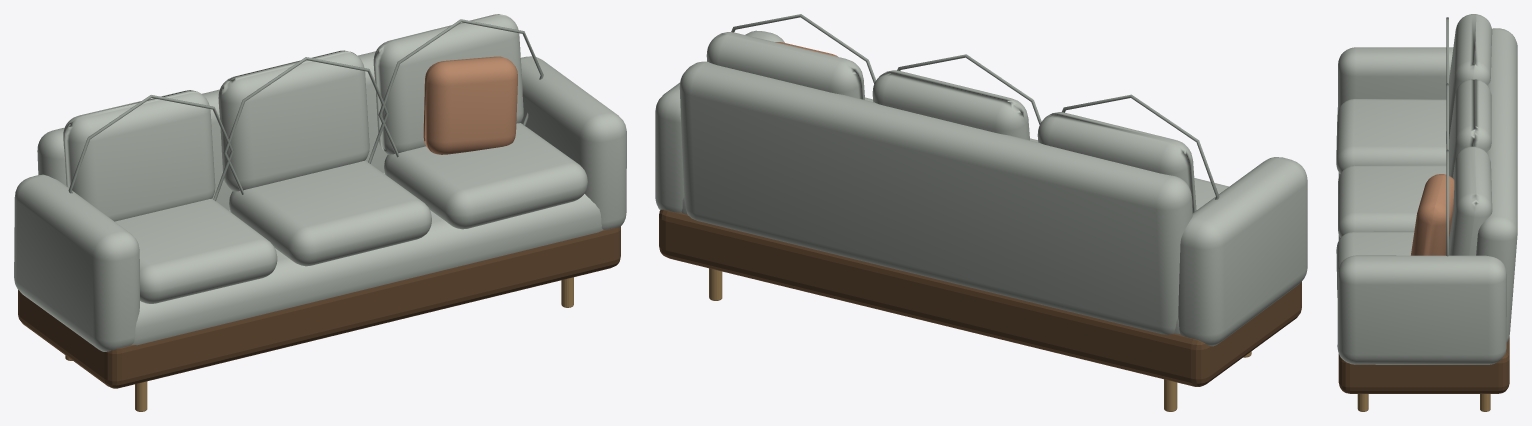
The model's file is hero_modern_sofa.glb.
The picture shows the model from 3 angles, left to right: view 1: azimuth 30°, elevation 25°; view 2: azimuth 150°, elevation 25°; view 3: azimuth 270°, elevation 25°; orthographic projection. The views are drawn at different scales.
Visible parts, largest first — view 1: sofa_frame, sofa_body, sofa_arm_left, back_cushion_1, back_cushion_0, seat_cushion_1, seat_cushion_2, seat_cushion_0, sofa_arm_right, back_cushion_2, throw_pillow, sofa_back_shell (+3 smaller); view 2: sofa_back_shell, sofa_frame, sofa_arm_left, back_cushion_1, back_cushion_0, back_cushion_2, sofa_arm_right, back_piping_0, back_piping_2, back_piping_1; view 3: sofa_arm_right, seat_cushion_0, sofa_back_shell, sofa_arm_left, seat_cushion_1, sofa_frame, back_cushion_2, back_cushion_1, back_cushion_0, throw_pillow, seat_cushion_2, back_piping_2 (+4 smaller).
Part boxes in pixels (x1,y1,x2,y2): sofa_frame: (18,226,620,388); sofa_body: (132,172,603,345); sofa_arm_left: (14,174,139,351); back_cushion_1: (218,50,369,191); back_cushion_0: (63,90,215,221); seat_cushion_1: (229,160,431,266); seat_cushion_2: (384,123,587,229); seat_cushion_0: (115,198,277,303); sofa_arm_right: (521,56,626,229); back_cushion_2: (373,14,523,154); throw_pillow: (423,56,517,154); sofa_back_shell: (37,51,387,210); sofa_back_shell: (679,61,1192,334); sofa_frame: (659,209,1301,386); sofa_arm_left: (1178,157,1307,346); back_cushion_1: (872,70,1029,140); back_cushion_0: (1037,112,1196,212); back_cushion_2: (706,32,864,99); sofa_arm_right: (655,30,784,212); back_piping_0: (1062,94,1219,199); back_piping_2: (731,14,875,83); back_piping_1: (897,54,1041,124); sofa_arm_right: (1337,255,1506,364); seat_cushion_0: (1336,98,1446,173); sofa_back_shell: (1476,28,1517,342); sofa_arm_left: (1337,47,1453,111); seat_cushion_1: (1338,165,1446,237); sofa_frame: (1338,336,1509,393); back_cushion_2: (1449,146,1492,255); back_cushion_1: (1449,79,1491,177); back_cushion_0: (1446,14,1492,143); throw_pillow: (1411,174,1454,255); seat_cushion_2: (1336,231,1414,297); back_piping_2: (1446,149,1448,256).
Size of the model in its own units: 2.64 by 1.26 by 0.892.
